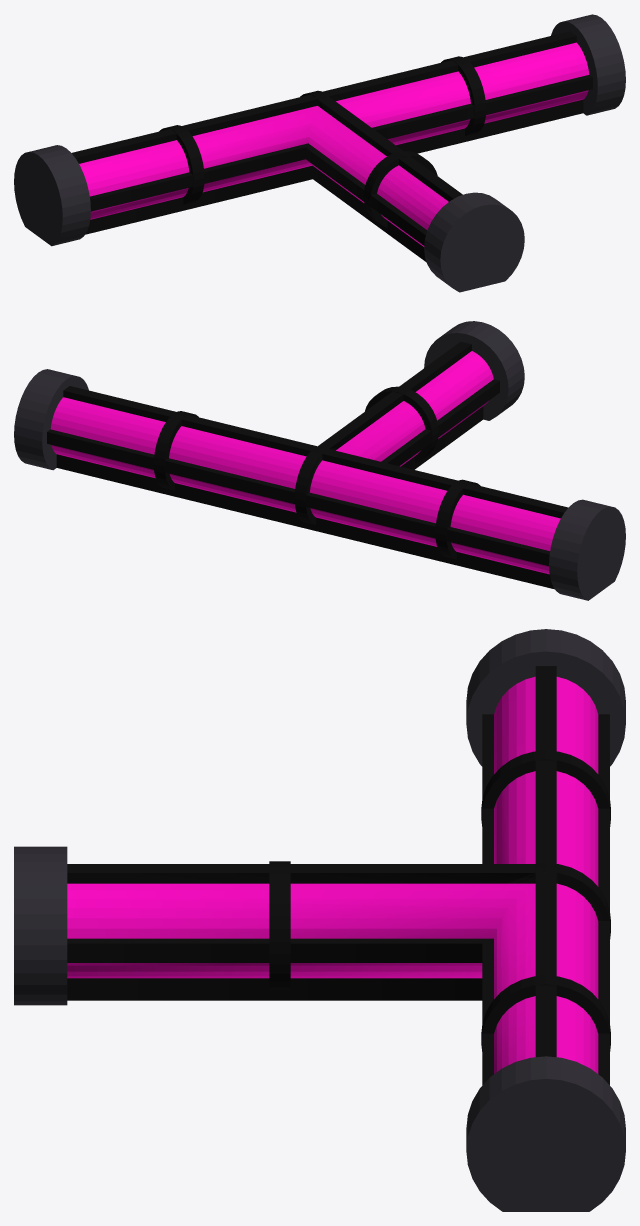
File: powerline_3con.obj
3 views of the same model, one above another, from view 1: azimuth 30°, elevation 25°; view 2: azimuth 150°, elevation 25°; view 3: azimuth 270°, elevation 25° (orthographic). The views are drawn at different scales.
Visible parts, largest first — view 1: Cylinder.001, Cylinder.004, Cube.001_Cube.001, Cube.003_Cube.001, Cylinder.002; view 2: Cylinder.001, Cube.001_Cube.001, Cylinder.004, Cube.003_Cube.001, Cylinder.002; view 3: Cylinder.001, Cylinder.004, Cube.001_Cube.001, Cylinder.002, Cube.003_Cube.001.
Boxes of the visible parts, bbox=[...] form: Cylinder.001: bbox=[79, 42, 589, 246]; Cylinder.004: bbox=[14, 14, 625, 292]; Cube.001_Cube.001: bbox=[72, 31, 592, 245]; Cube.003_Cube.001: bbox=[85, 99, 583, 262]; Cylinder.002: bbox=[159, 56, 486, 227]; Cylinder.001: bbox=[50, 351, 560, 574]; Cube.001_Cube.001: bbox=[47, 341, 568, 565]; Cylinder.004: bbox=[14, 321, 625, 600]; Cube.003_Cube.001: bbox=[56, 406, 554, 589]; Cylinder.002: bbox=[153, 386, 480, 559]; Cylinder.001: bbox=[67, 676, 598, 1073]; Cylinder.004: bbox=[14, 629, 625, 1211]; Cube.001_Cube.001: bbox=[67, 666, 609, 1085]; Cylinder.002: bbox=[269, 750, 610, 1051]; Cube.003_Cube.001: bbox=[67, 978, 482, 1000].
Bounding box in the file's own units: 10 × 1.38 × 5.75.
